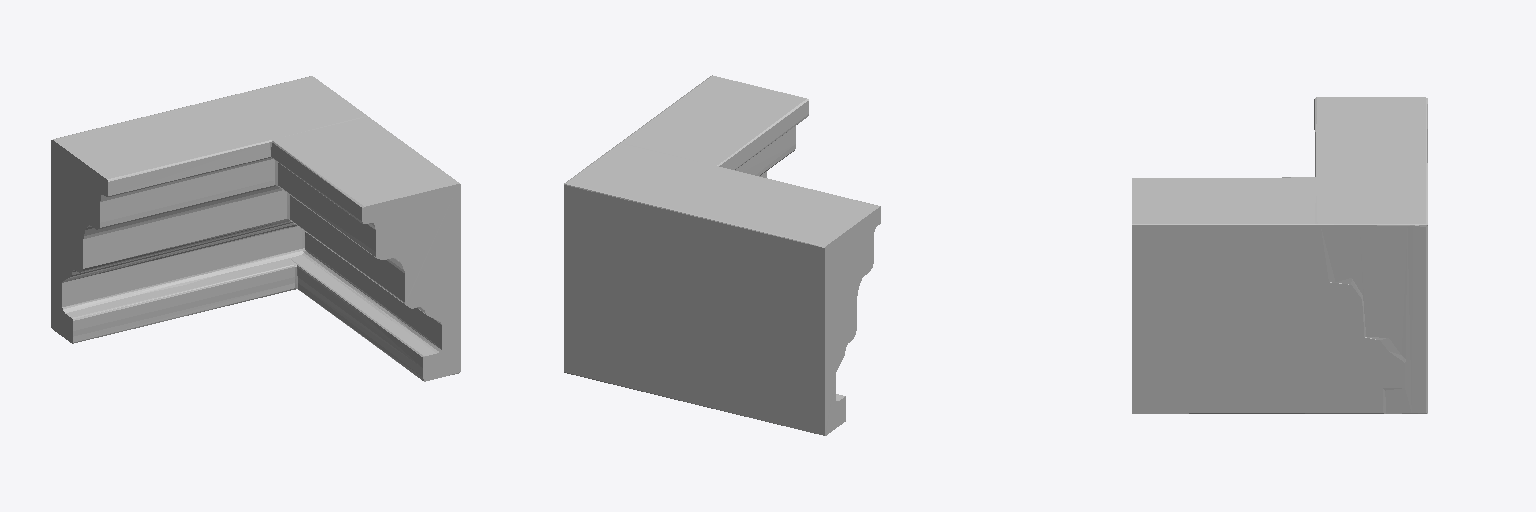
The model's file is trimcornerinner.obj.
3 renders of one model, left to right at view 1: azimuth 30°, elevation 25°; view 2: azimuth 150°, elevation 25°; view 3: azimuth 270°, elevation 25°, orthographic.
Visible parts, largest first — view 1: trimcornerinner; view 2: trimcornerinner; view 3: trimcornerinner.
Boxes of the visible parts, <box> form: trimcornerinner: <box>51,76,460,381</box>; trimcornerinner: <box>564,75,880,435</box>; trimcornerinner: <box>1132,97,1427,413</box>.
Size of the model in its own units: 2.93 by 2.03 by 2.87.